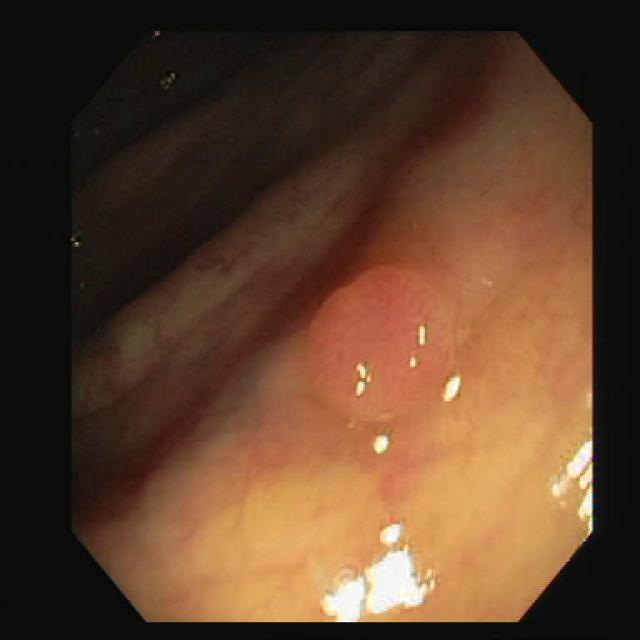tumor: (307, 264, 450, 418)
